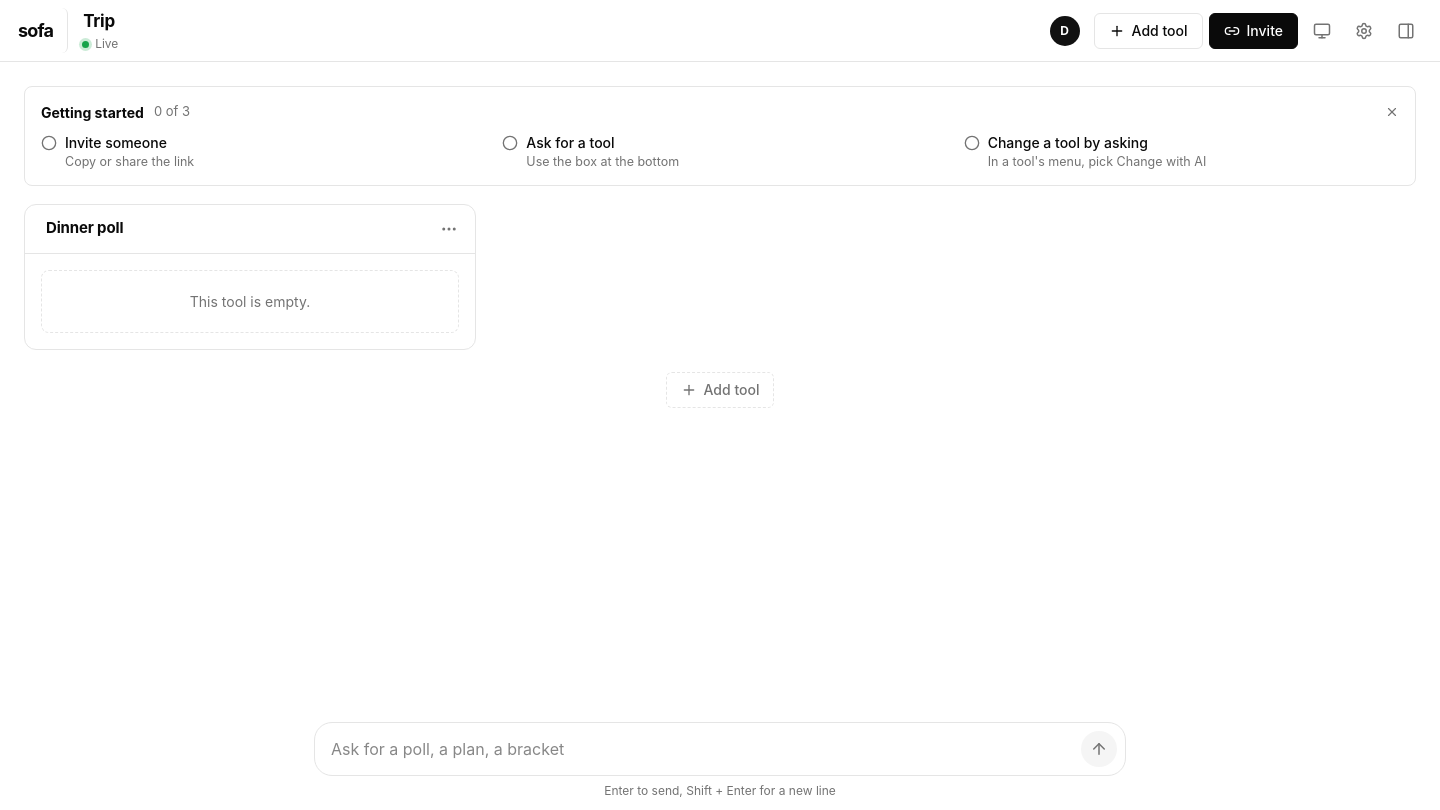
Test: Getting started checklist › ticks asking and changing a tool, and keeps progress per space
Expected: the text "0 of 3" is shown, [154,102,190,122]
Type "A poll" into the text box named "Ask for a tool" at (702, 749), box [331,731,1073,767]
Then press Enter
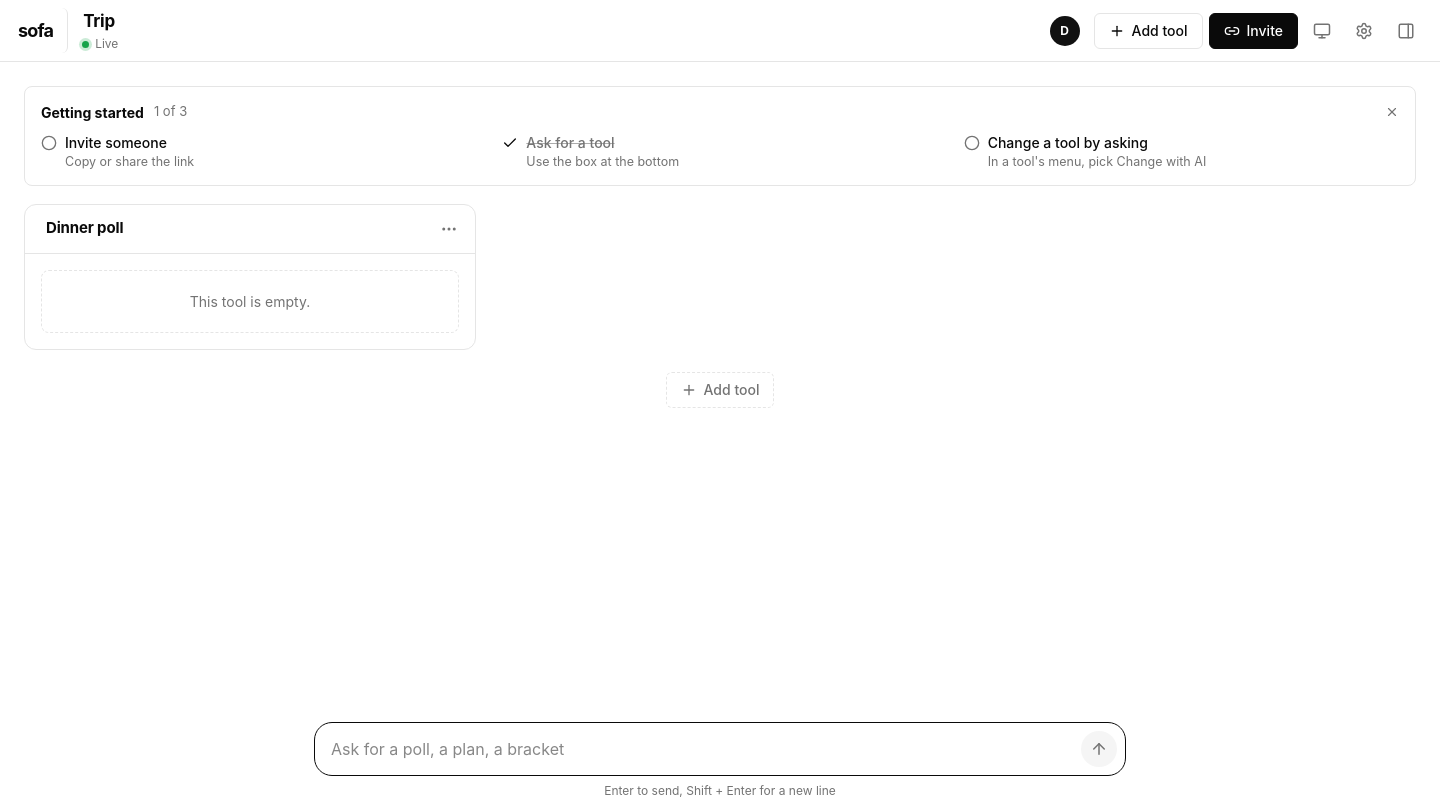
Expected: the text "1 of 3" is shown, [154,102,187,122]
Click the button named "Actions for Dinner poll" at (449, 229), box [431,211,467,247]
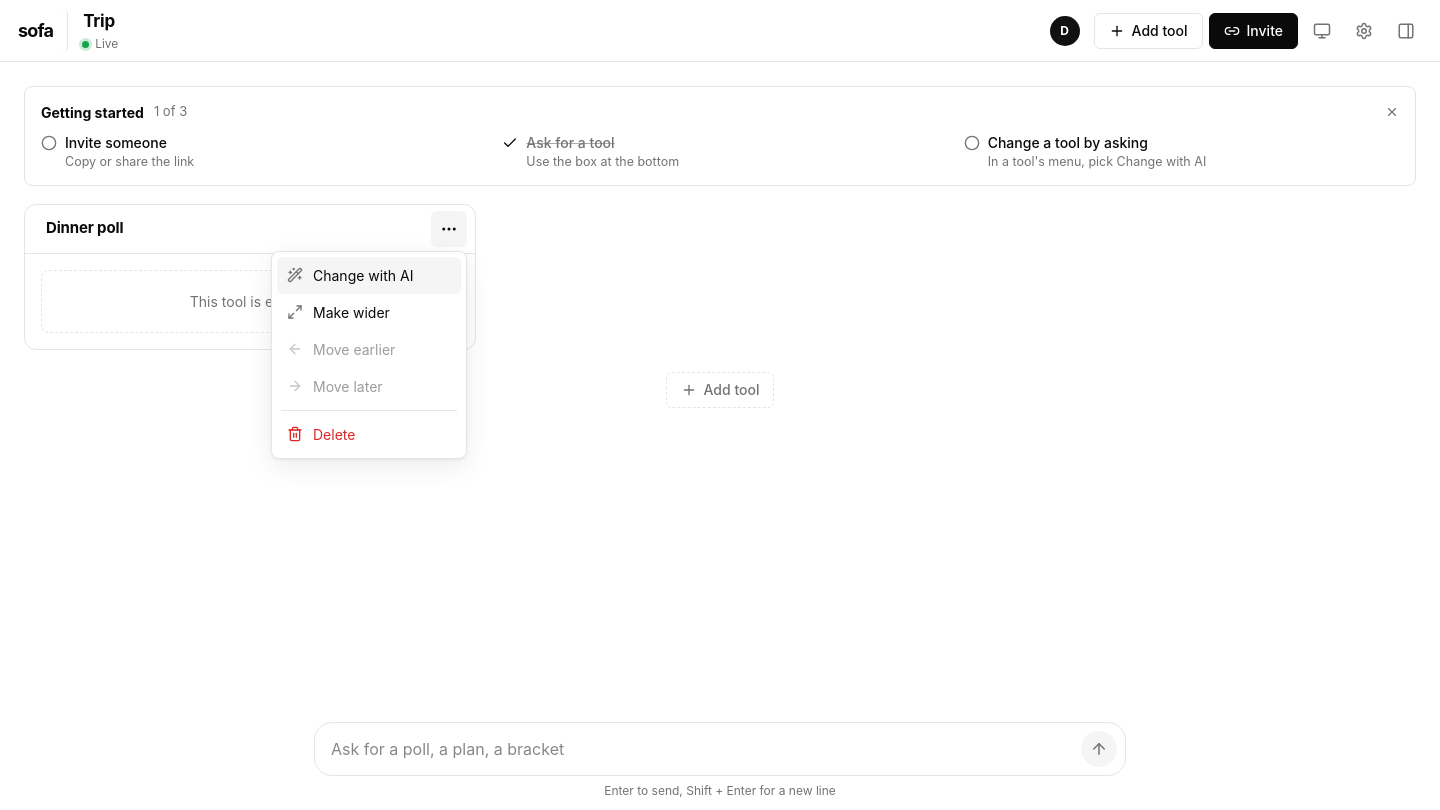
Click the menu item "Change with AI" at (369, 275), box [277,257,461,294]
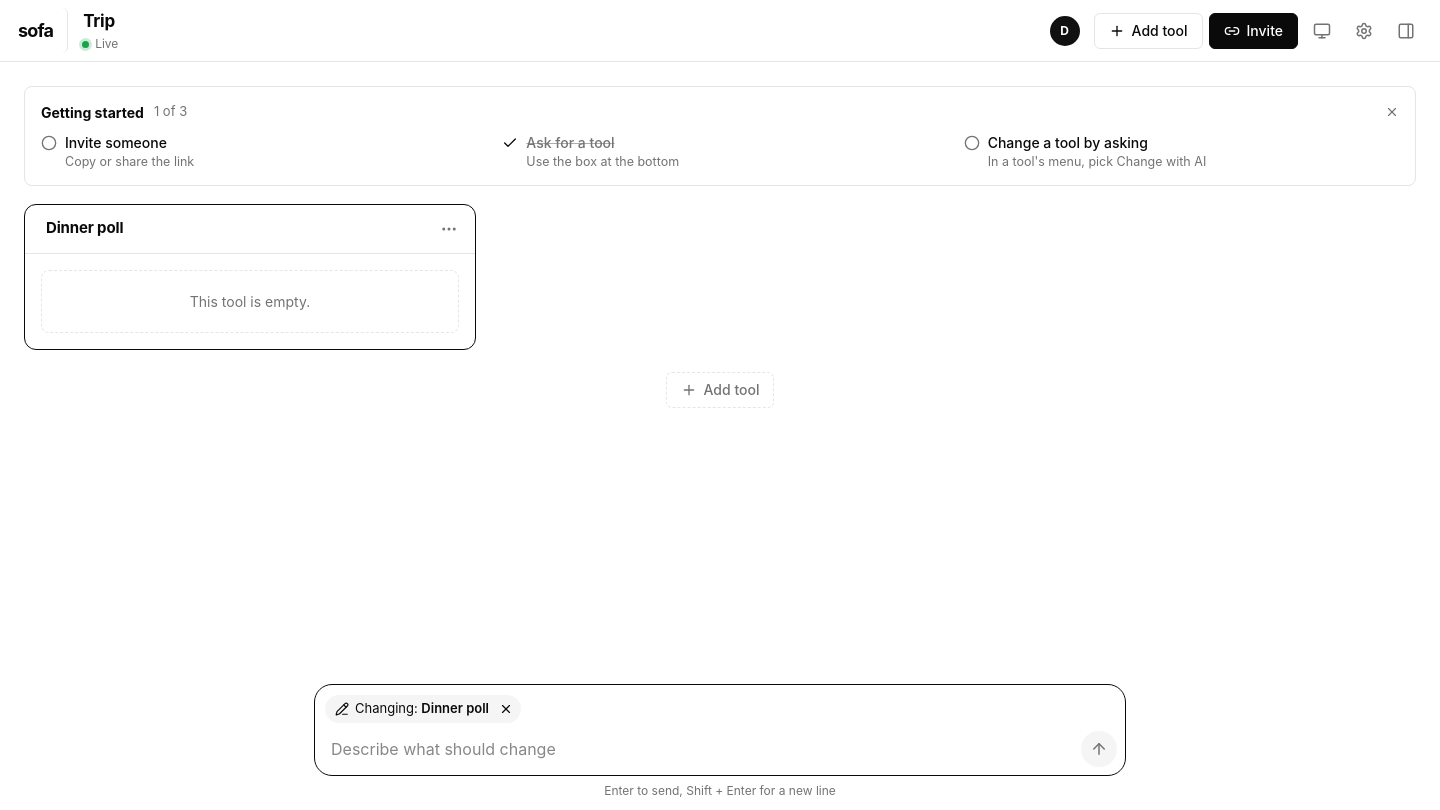
Type "Add a fourth option" into the text box named "Describe the change" at (702, 749), box [331,731,1073,767]
Then press Enter
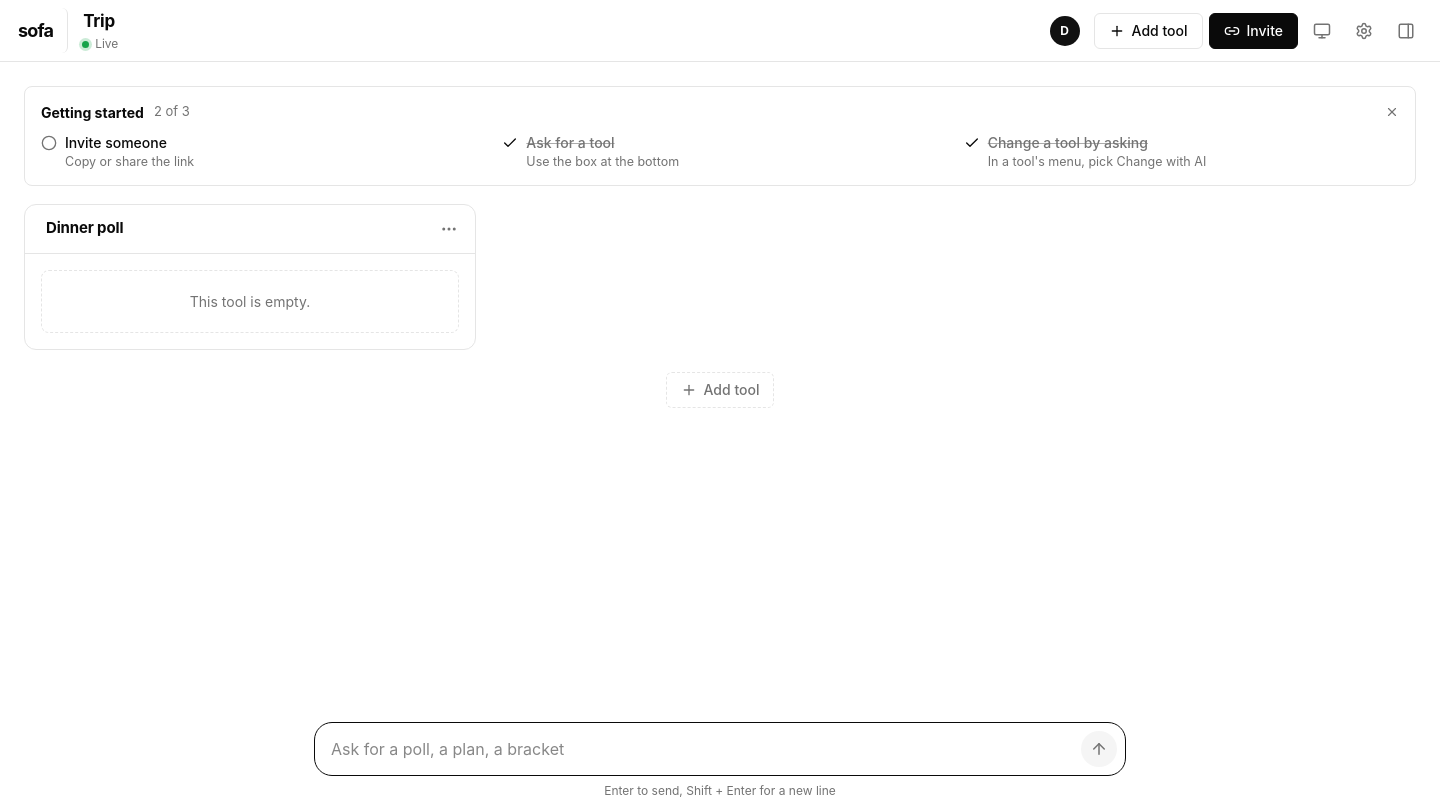
Expected: the text "2 of 3" is shown, [154,102,190,122]
